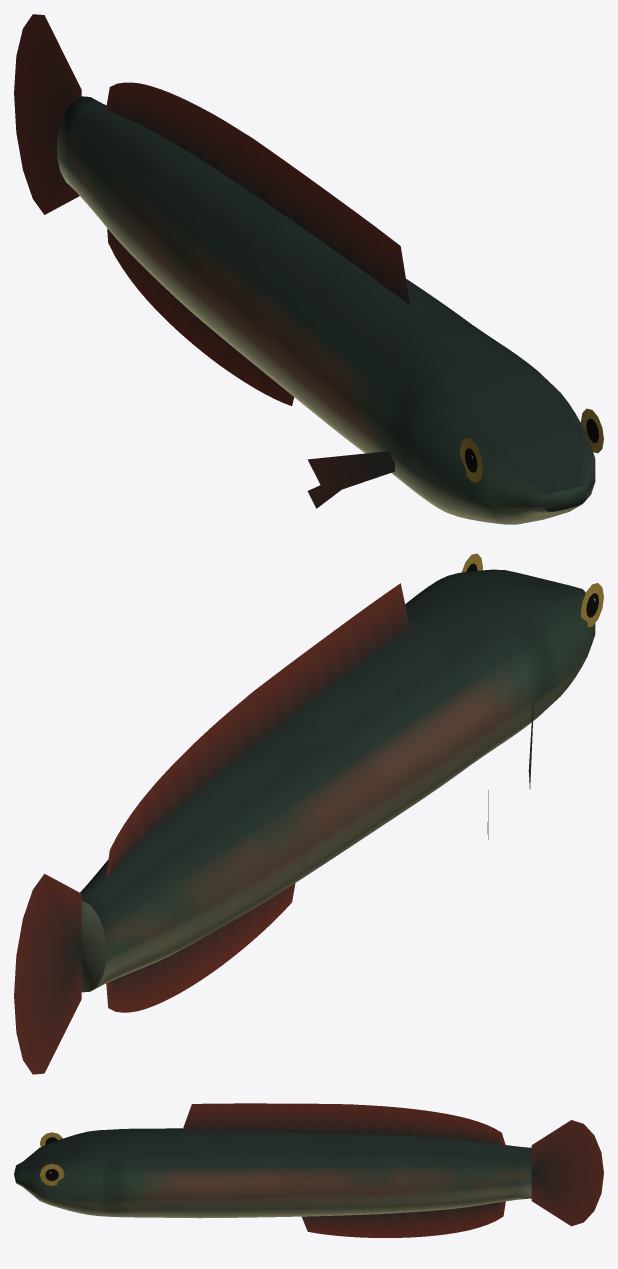
Rendered from toman.fbx.
The picture shows the model from 3 angles, top to bottom: view 1: azimuth 30°, elevation 25°; view 2: azimuth 150°, elevation 25°; view 3: azimuth 270°, elevation 25°; orthographic projection. The views are drawn at different scales.
Parts seen in each view (by area): view 1: toman; view 2: toman; view 3: toman.
Boxes of the visible parts, x1,y1,x2,y2 form: toman: (14,14,603,524); toman: (14,553,603,1074); toman: (14,1103,603,1237).
Size of the model in its own units: 0.2638 by 0.2881 by 1.14.
